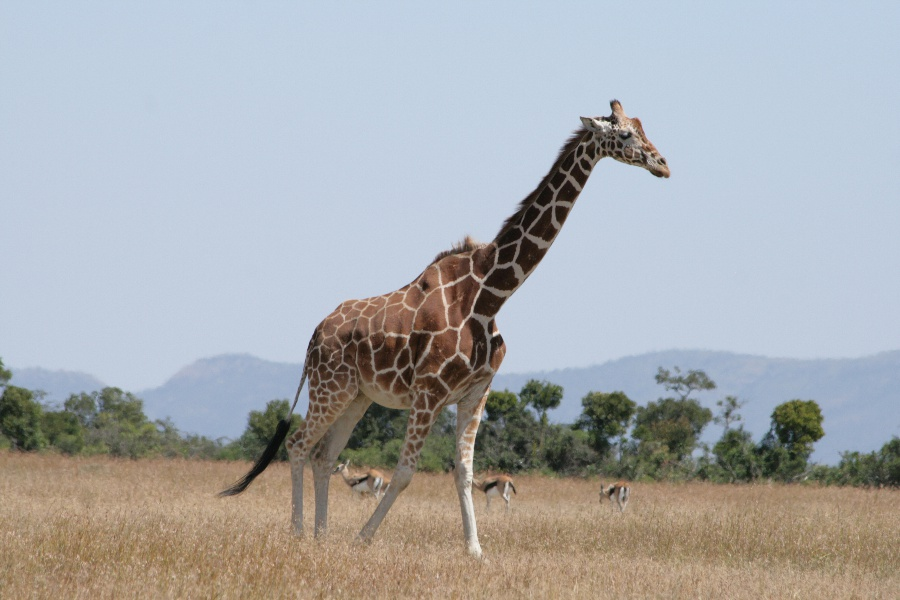giraffe: (258, 91, 680, 547)
